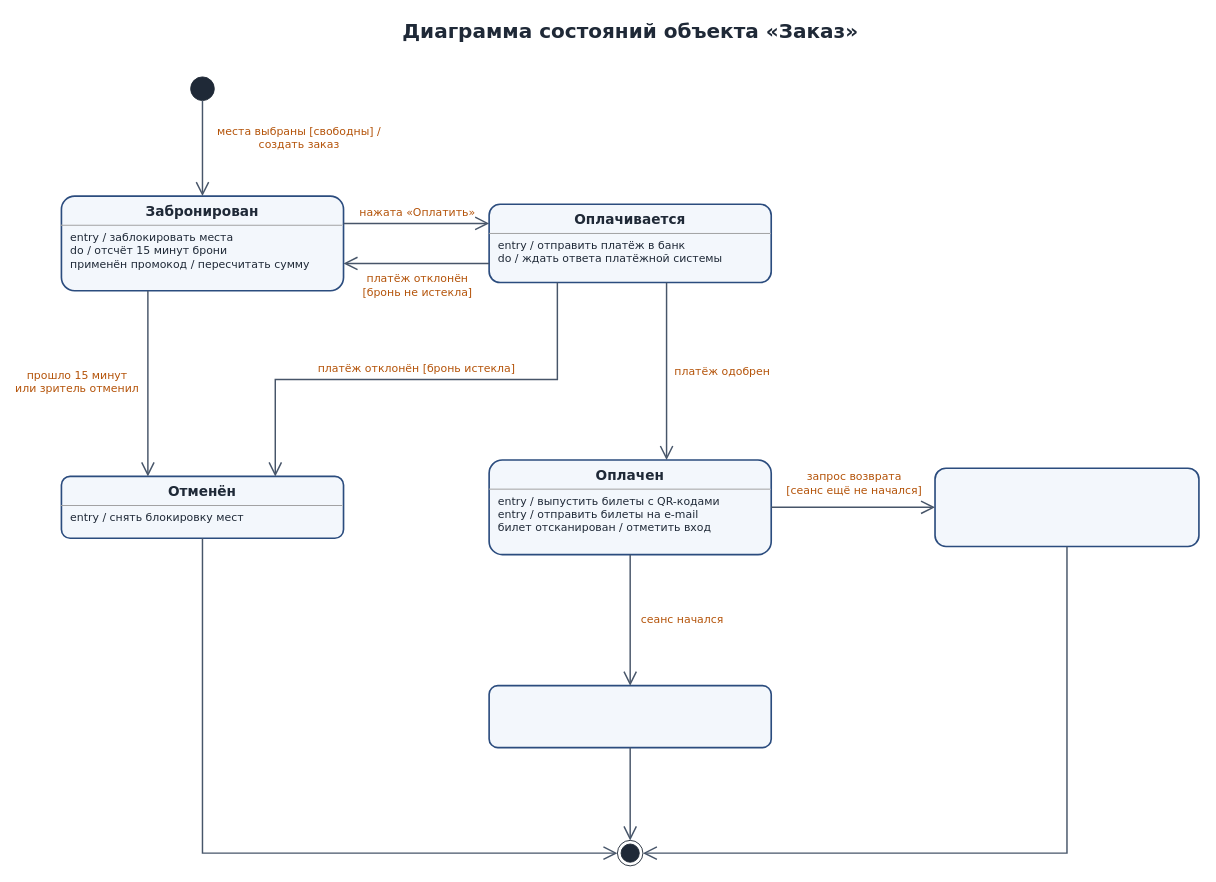
Image size: 1216x882. Some labels were removed from this diagram. The shapes that lost their labels are listed below. From the top down, each one's centre as x and y in pixels, then its label:
At point 1066,507: "Возвращён entry / вернуть деньги на карту entry / освободить места".
At point 630,716: "Завершён entry / перенести заказ в историю".
